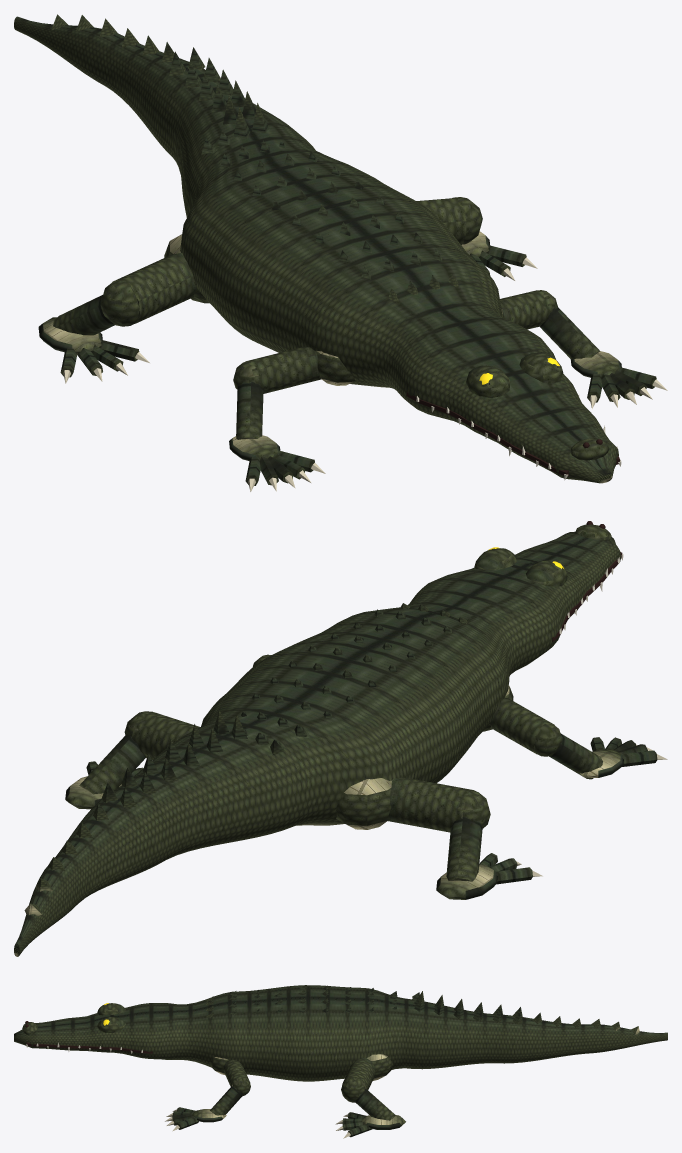
The model's file is gator.glb.
The picture shows the model from 3 angles, top to bottom: view 1: azimuth 30°, elevation 25°; view 2: azimuth 150°, elevation 25°; view 3: azimuth 270°, elevation 25°; orthographic projection. The views are drawn at different scales.
Visible parts, largest first — view 1: gator; view 2: gator; view 3: gator.
Part boxes in pixels (x1,y1,x2,y2): gator: (14,14,667,491); gator: (14,521,667,956); gator: (14,985,667,1138).
Size of the model in its own units: 1.81 by 0.6024 by 4.
Materials: 6 (1 with a texture image).
